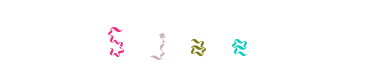5: (100, 0, 180, 80)
A: (158, 0, 238, 80)
E: (199, 0, 279, 80)
J: (150, 0, 230, 80)
